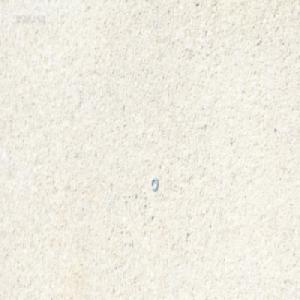Washer: (150, 176, 158, 191)
